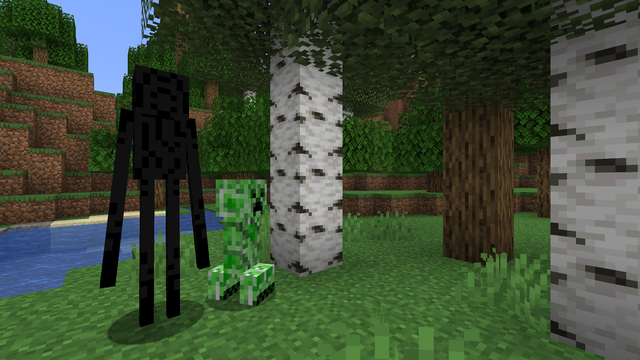creepers: (213, 173, 271, 308)
endermens: (126, 52, 194, 340)
